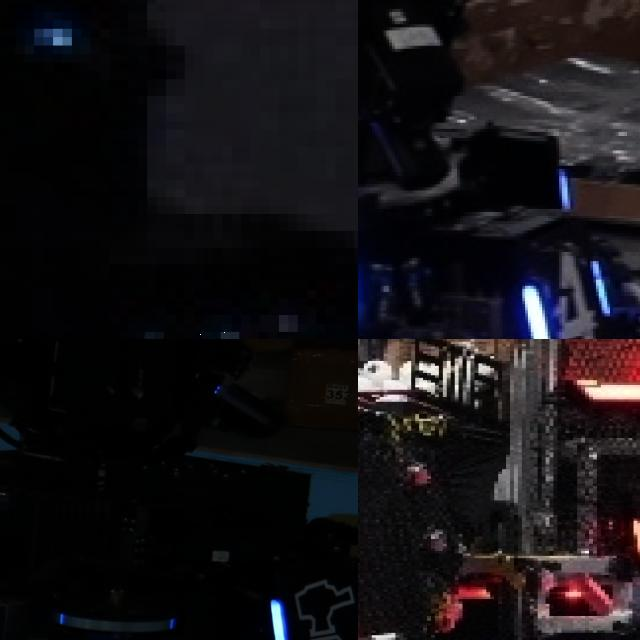B4: (519, 236, 618, 339)
Bs: (267, 570, 358, 640)
R2: (624, 500, 640, 577)
